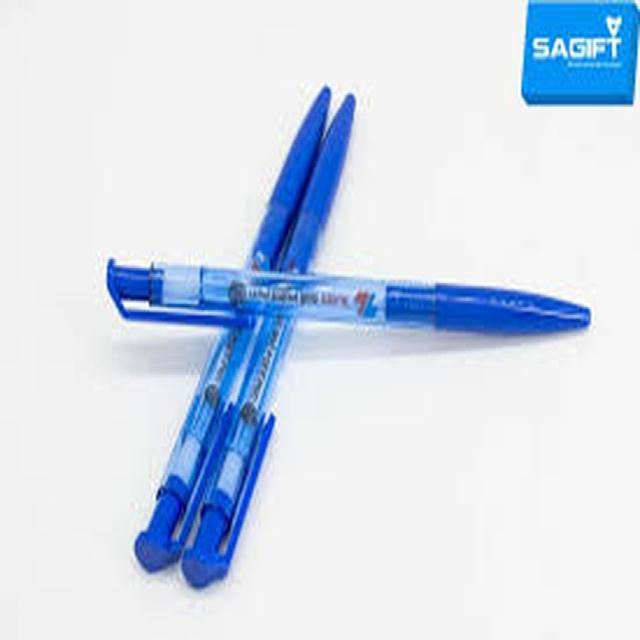pen: (104, 42, 386, 616), (88, 224, 610, 372)
